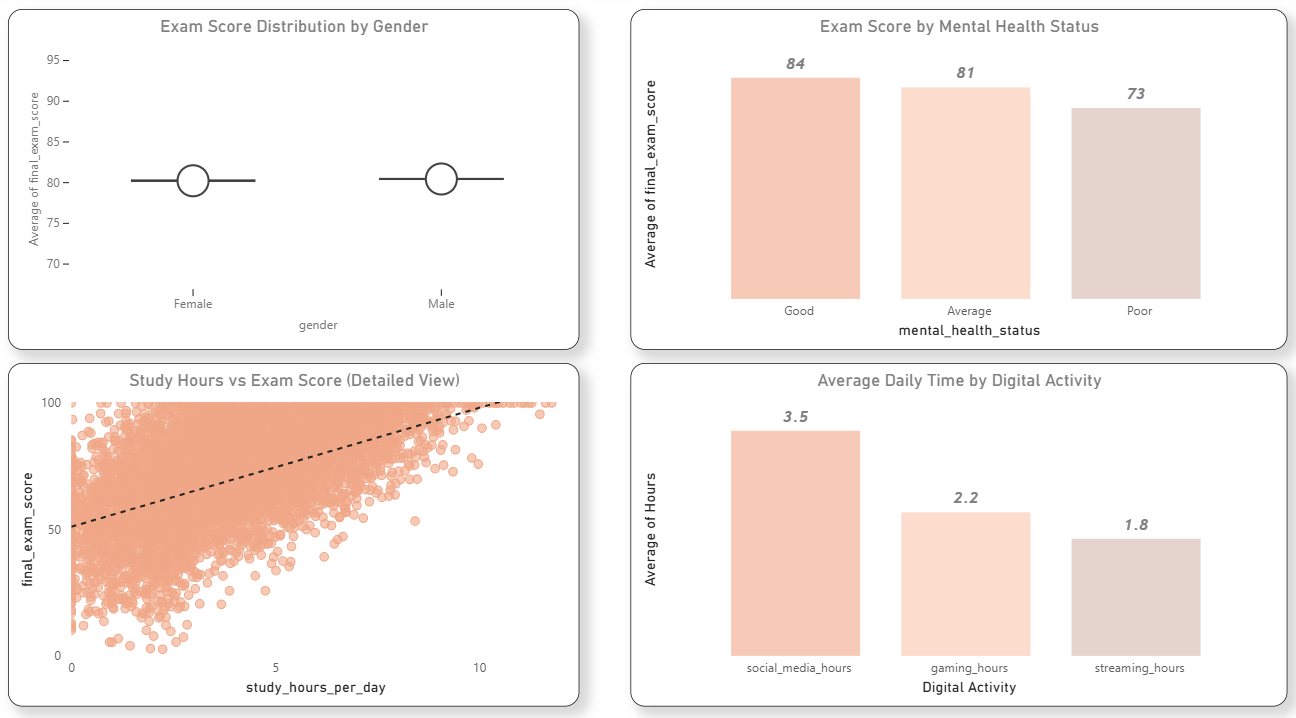

The dashboard page shown, as its layout file describes it:
{"tool":"powerbi","page":{"name":"Student Lifestyle Insights","canvas":[1280,720],"ordinal":1},"visuals":[{"type":"BoxandWhiskerByMAQ1823AD39DT234AB532063E128AX","title":"Exam Score Distribution by Gender","fields":{"measure":["Avg(student_digital_life.final_exam_score)"],"xCategoryParent":["student_digital_life.gender"]},"box":[14.6,14.6,556.8,331.8],"z":0},{"type":"columnChart","title":"Exam Score by Mental Health Status","fields":{"Category":["student_digital_life.mental_health_status"],"Y":["Avg(student_digital_life.final_exam_score)"]},"box":[621.1,14.6,640.1,331.8],"z":1000},{"type":"clusteredColumnChart","title":"Average Daily Time by Digital Activity","fields":{"Category":["student_digital_life.Digital Activity"],"Y":["Avg(student_digital_life.Hours)"]},"box":[621.1,359.5,640.1,334.7],"z":2000},{"type":"scatterChart","title":"Study Hours vs Exam Score (Detailed View)","fields":{"X":["student_digital_life.study_hours_per_day"],"Y":["student_digital_life.final_exam_score"]},"box":[14.6,359.5,556.8,334.7],"z":3000}]}

Visuals, with their boxes in screenshot pixels (x1, y1, x2, y2), scaled from the page's 1280x720 canvas onto the 1296x718 screenshot:
"Exam Score Distribution by Gender" BoxandWhiskerByMAQ1823AD39DT234AB532063E128AX: pyautogui.locateOnScreen(15, 15, 579, 345)
"Exam Score by Mental Health Status" columnChart: pyautogui.locateOnScreen(629, 15, 1277, 345)
"Average Daily Time by Digital Activity" clusteredColumnChart: pyautogui.locateOnScreen(629, 359, 1277, 692)
"Study Hours vs Exam Score (Detailed View)" scatterChart: pyautogui.locateOnScreen(15, 359, 579, 692)
